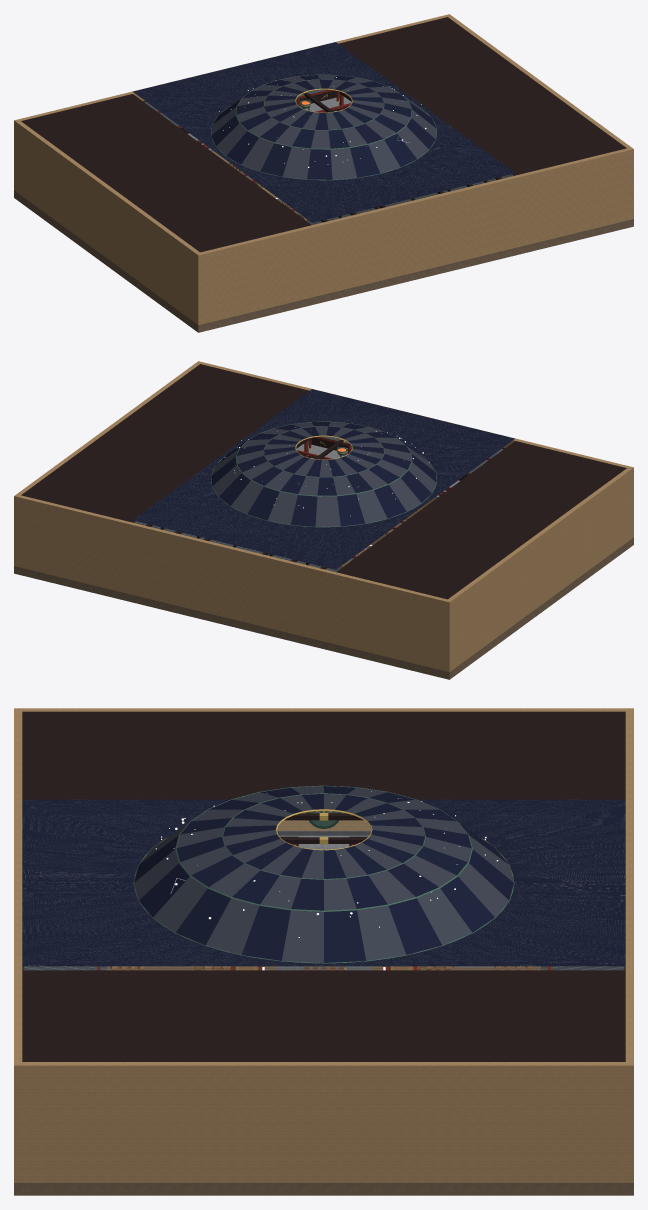
Rendered from lishan_visual.glb.
3 renders of one model, top to bottom at view 1: azimuth 30°, elevation 25°; view 2: azimuth 150°, elevation 25°; view 3: azimuth 270°, elevation 25°, orthographic. The views are drawn at different scales.
Visible parts, largest first — view 1: BATCH_main, DETAIL_chapter_craft, VIS_pit_floor; view 2: BATCH_main, DETAIL_chapter_craft, VIS_pit_floor; view 3: BATCH_main, DETAIL_chapter_craft, VIS_pit_floor.
Boxes of the visible parts, x1,y1,x2,y2 form: BATCH_main: (14, 14, 633, 325); DETAIL_chapter_craft: (133, 42, 514, 222); VIS_pit_floor: (14, 162, 633, 332); BATCH_main: (14, 361, 633, 672); DETAIL_chapter_craft: (133, 389, 514, 569); VIS_pit_floor: (14, 519, 633, 679); BATCH_main: (14, 708, 633, 1182); DETAIL_chapter_craft: (22, 785, 625, 970); VIS_pit_floor: (14, 966, 633, 1195).
Bounding box in the file's own units: 60 × 14.71 × 44.
31 materials, 19 textured.
